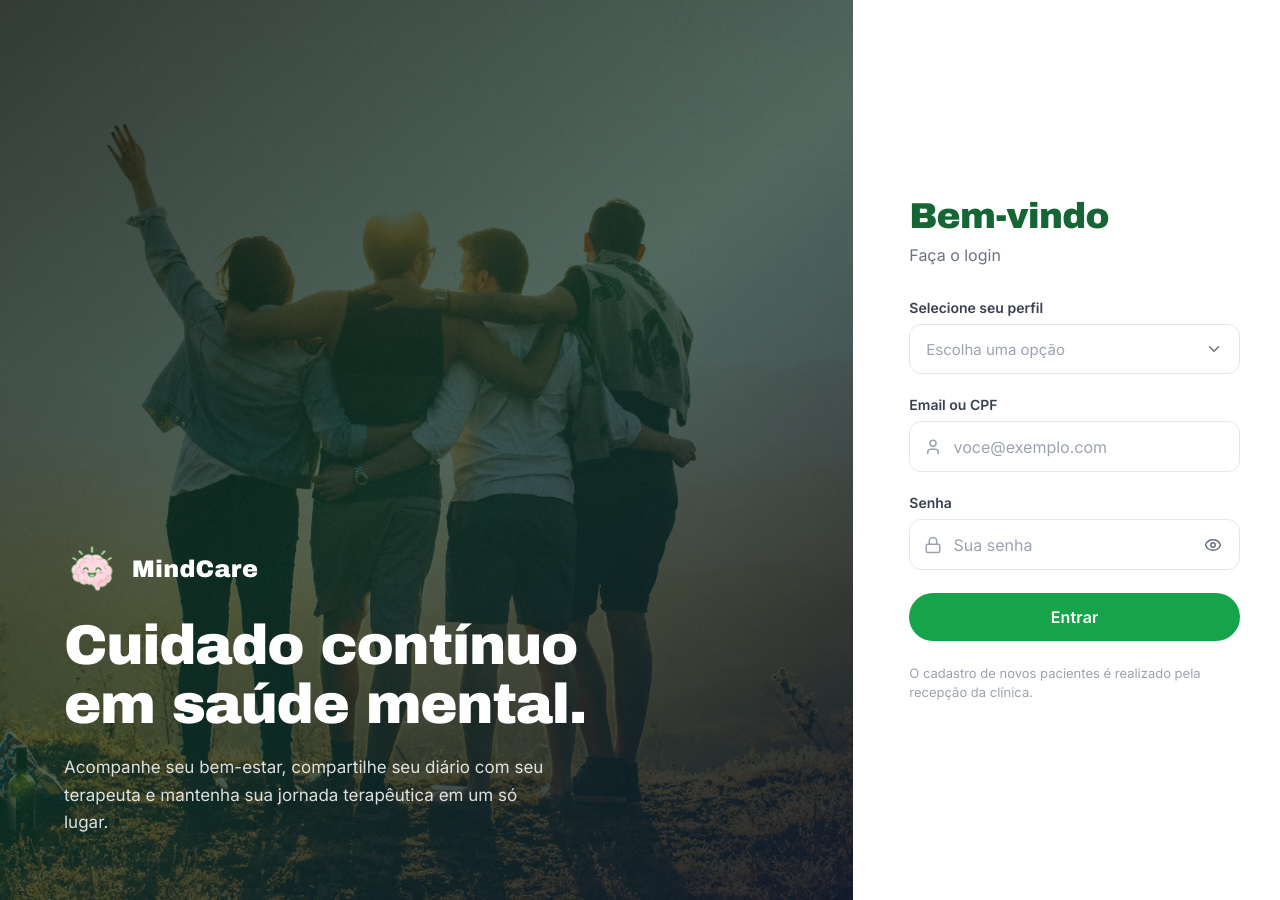
Scenario: Tela de Login › exige preenchimento das credenciais
The image size is (1280, 900).
Click the button "Escolha uma opção". click: (996, 349)
box: top-left (909, 324), bottom-right (1240, 374)
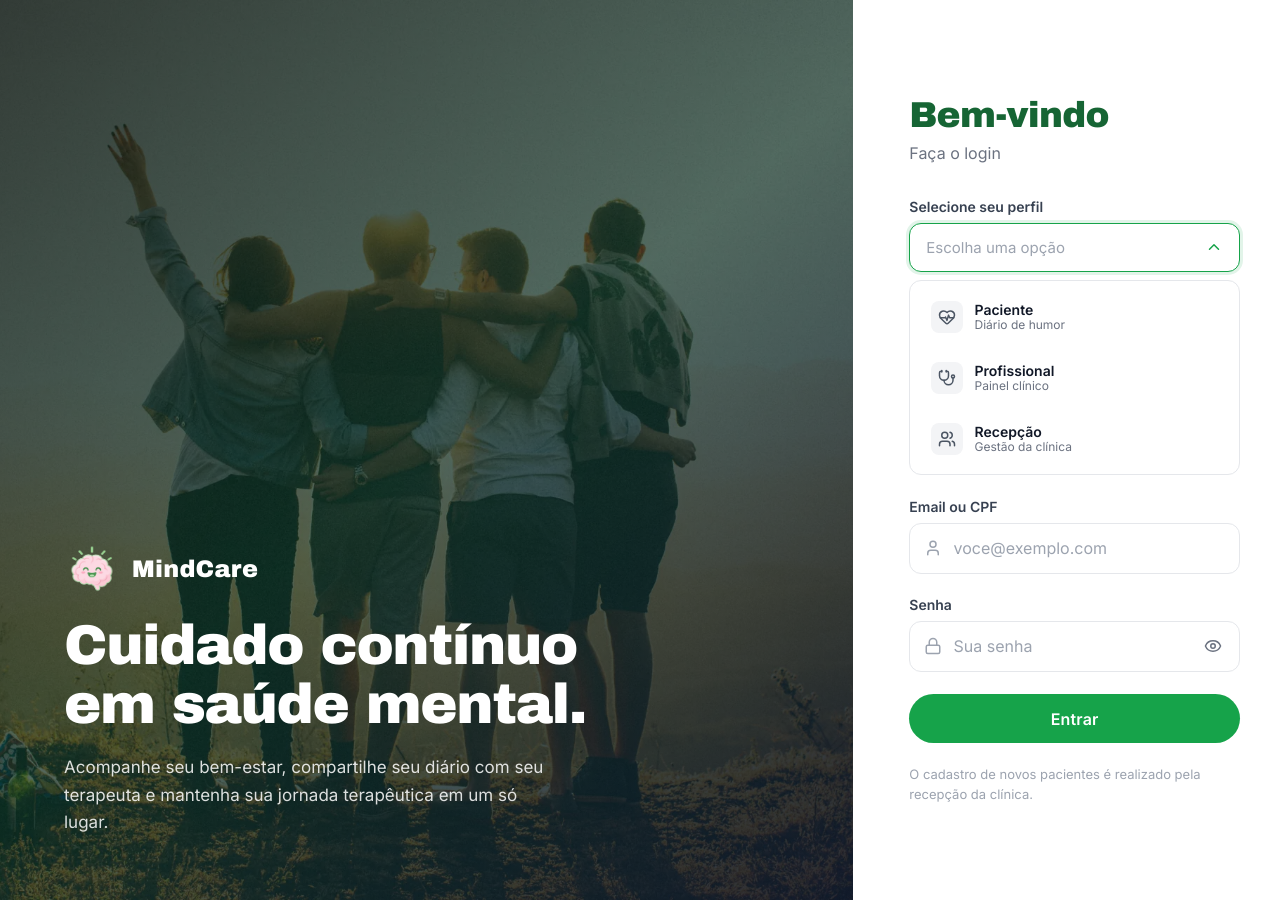
Click the option "Paciente Diário de humor". click: (947, 317)
box: top-left (918, 289), bottom-right (1231, 344)
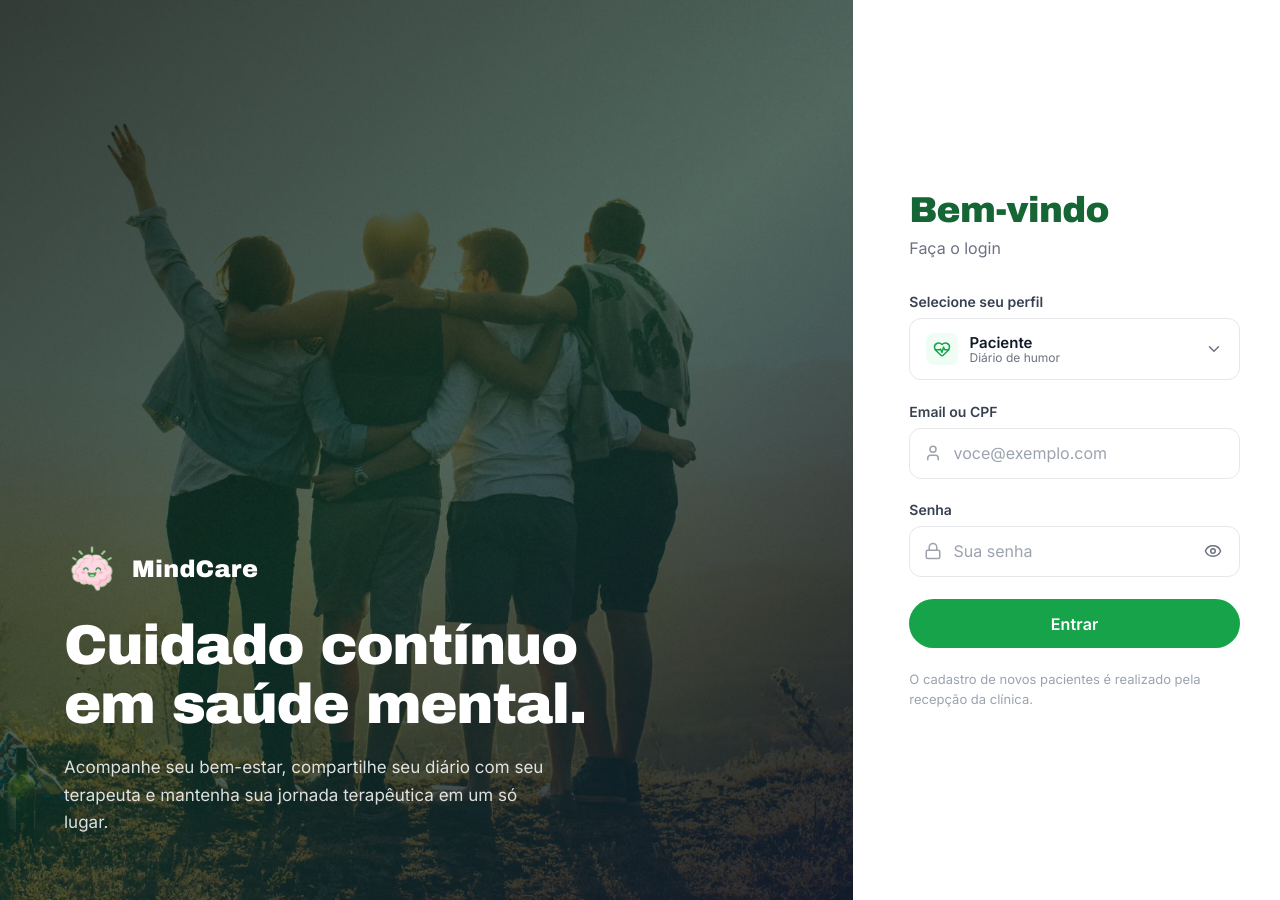
Click the button "Entrar". click: (1075, 624)
box: top-left (909, 599), bottom-right (1240, 648)
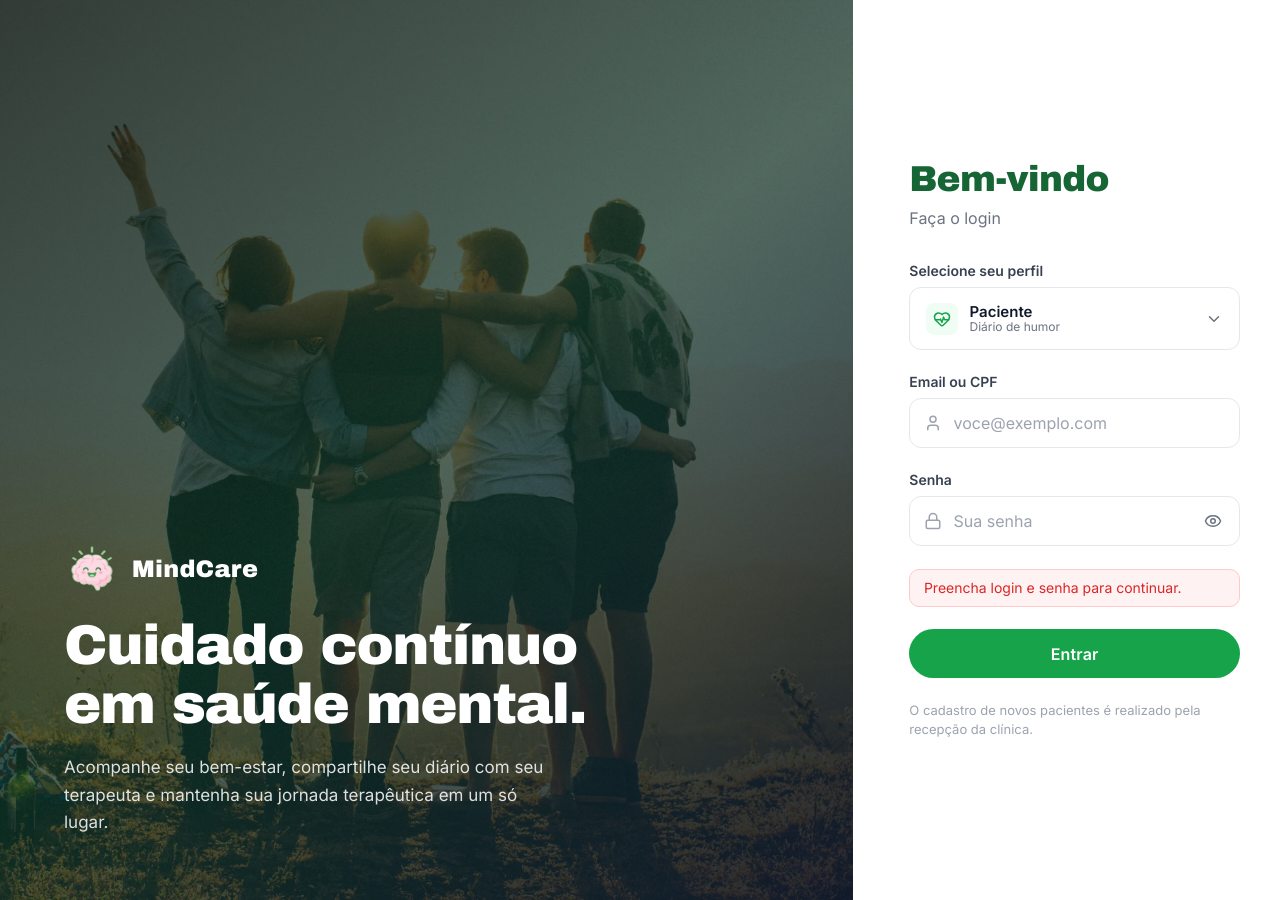
expect the text "Preencha login e senha para continuar." is shown: met, box top-left (909, 569), bottom-right (1240, 607)
